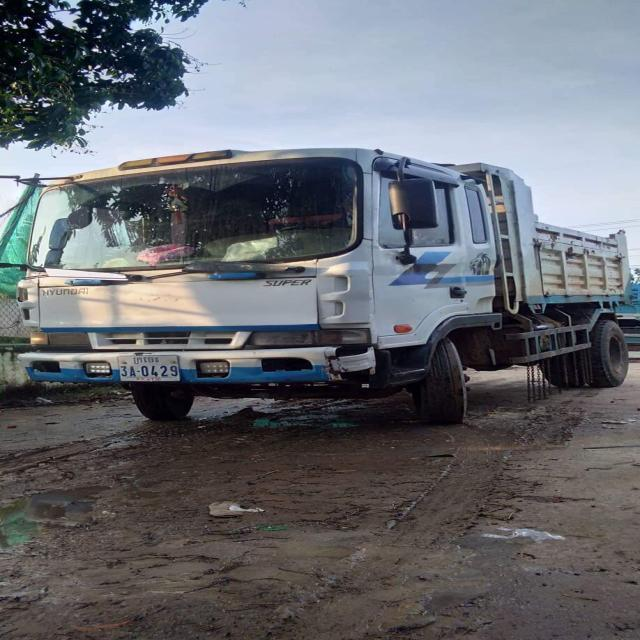Kratie: (133, 357, 160, 364)
